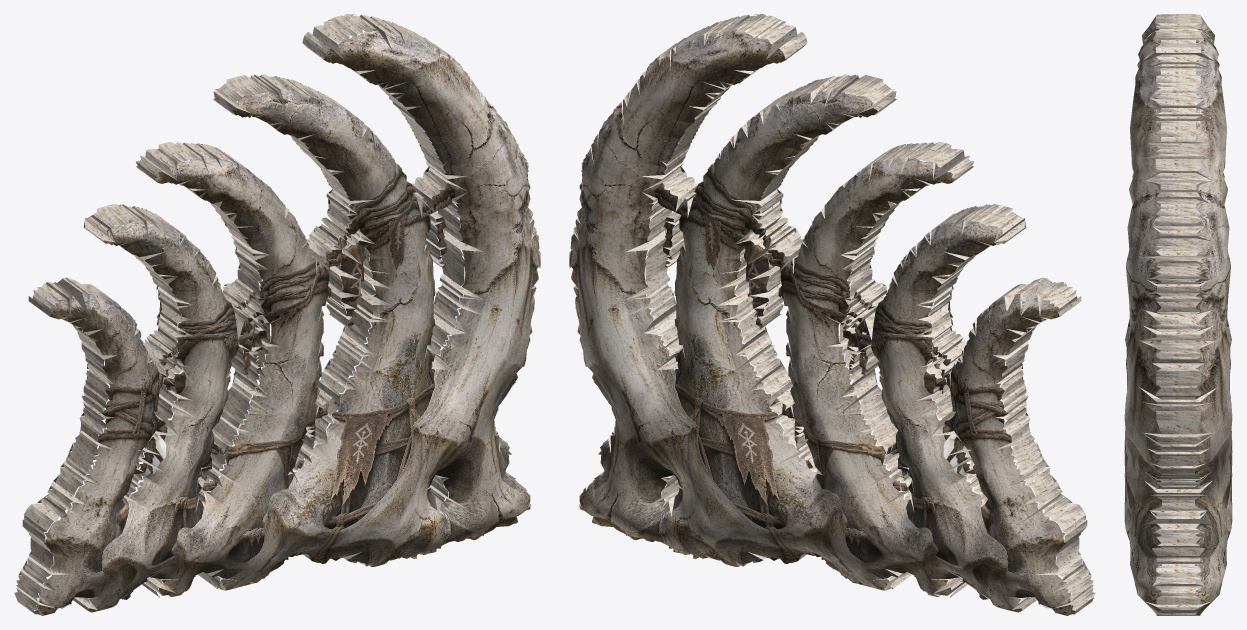
Rendered from Jotunheim_Bone_Ribs.glb.
3 renders of one model, left to right at view 1: azimuth 30°, elevation 25°; view 2: azimuth 150°, elevation 25°; view 3: azimuth 270°, elevation 25°, orthographic. The views are drawn at different scales.
Visible parts, largest first — view 1: Jotunheim_Bone_Ribs; view 2: Jotunheim_Bone_Ribs; view 3: Jotunheim_Bone_Ribs.
Part boxes in pixels (x1,y1,x2,y2): Jotunheim_Bone_Ribs: (14, 14, 540, 615); Jotunheim_Bone_Ribs: (569, 14, 1095, 615); Jotunheim_Bone_Ribs: (1124, 14, 1232, 615).
Size of the model in its own units: 0.9727 by 0.9961 by 0.187.
1 material, 1 textured.
